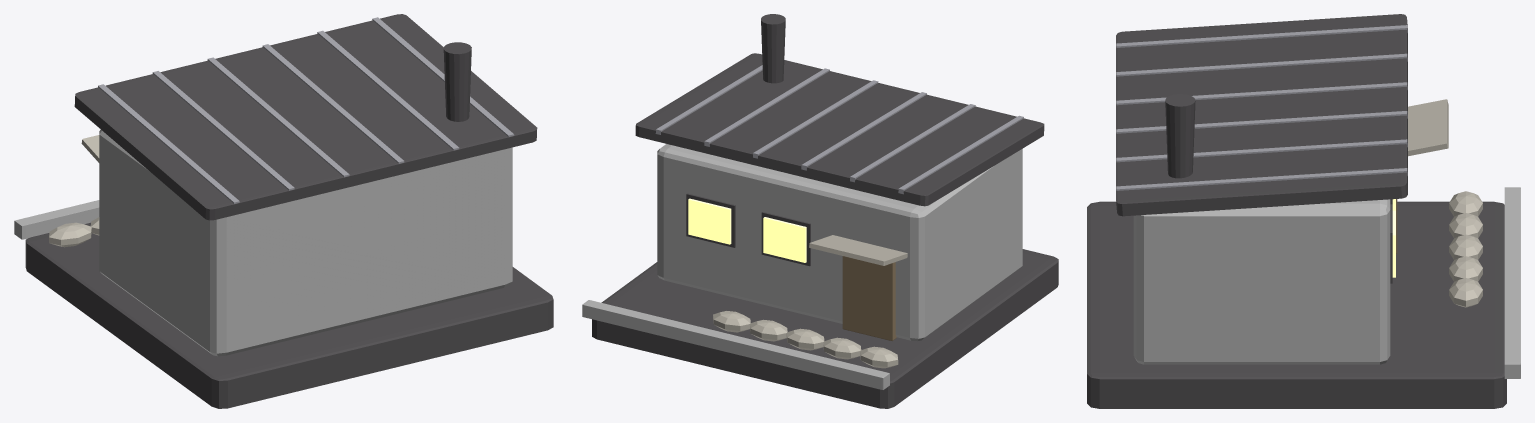
Rendered from bld_barracks.glb.
3 views of the same model, side by side, from view 1: azimuth 30°, elevation 25°; view 2: azimuth 150°, elevation 25°; view 3: azimuth 270°, elevation 25° (orthographic). The views are drawn at different scales.
Visible parts, largest first — view 1: BK_Hut, BK_Roof, BK_Slab, BK_Chimney, BK_Trim, BK_RoofRib.001, BK_RoofRib.004, BK_RoofRib.002, BK_RoofRib.003, BK_RoofRib, BK_RoofRib.005, BK_Sandbag; view 2: BK_Hut, BK_Roof, BK_Slab, BK_Trim, BK_Door, BK_Window.001, BK_Window, BK_Chimney, BK_Awning, BK_RoofRib, BK_RoofRib.004, BK_RoofRib.002 (+10 smaller); view 3: BK_Roof, BK_Slab, BK_Hut, BK_Trim, BK_Chimney, BK_Awning, BK_RoofRib.001, BK_RoofRib, BK_RoofRib.005, BK_RoofRib.004, BK_RoofRib.002, BK_RoofRib.003 (+5 smaller).
Boxes of the visible parts, x1,y1,x2,y2 form: BK_Hut: [99, 129, 512, 356]; BK_Roof: [74, 14, 537, 220]; BK_Slab: [25, 222, 553, 408]; BK_Chimney: [443, 42, 471, 121]; BK_Trim: [14, 200, 99, 239]; BK_RoofRib.001: [152, 71, 294, 190]; BK_RoofRib.004: [317, 30, 459, 150]; BK_RoofRib.002: [207, 57, 349, 177]; BK_RoofRib.003: [262, 44, 404, 163]; BK_RoofRib: [98, 84, 239, 203]; BK_RoofRib.005: [372, 17, 514, 136]; BK_Sandbag: [49, 222, 91, 247]; BK_Hut: [657, 144, 1022, 341]; BK_Roof: [635, 53, 1044, 206]; BK_Slab: [592, 249, 1058, 408]; BK_Trim: [582, 300, 889, 389]; BK_Door: [842, 256, 896, 340]; BK_Window.001: [688, 198, 731, 244]; BK_Window: [763, 217, 806, 262]; BK_Chimney: [761, 14, 785, 83]; BK_Awning: [809, 235, 907, 265]; BK_RoofRib: [898, 115, 1023, 194]; BK_RoofRib.004: [704, 68, 829, 146]; BK_RoofRib.002: [801, 92, 926, 170]; BK_Roof: [1116, 14, 1407, 216]; BK_Slab: [1087, 201, 1506, 408]; BK_Hut: [1133, 199, 1390, 364]; BK_Trim: [1504, 187, 1520, 378]; BK_Chimney: [1165, 94, 1195, 178]; BK_Awning: [1408, 99, 1448, 156]; BK_RoofRib.001: [1116, 53, 1407, 76]; BK_RoofRib: [1116, 25, 1407, 47]; BK_RoofRib.005: [1116, 168, 1407, 190]; BK_RoofRib.004: [1116, 139, 1407, 162]; BK_RoofRib.002: [1116, 82, 1407, 105]; BK_RoofRib.003: [1116, 111, 1407, 133].
Size of the model in its own units: 3.6 by 2.65 by 3.72.
